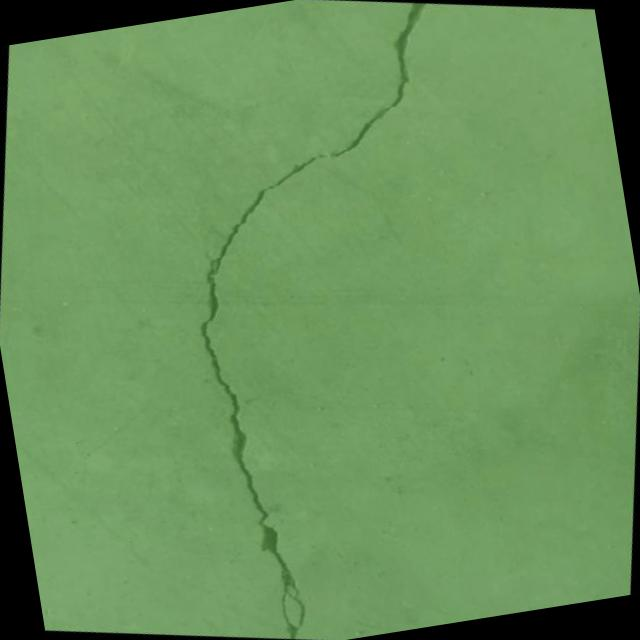crack: (92, 0, 523, 640)
